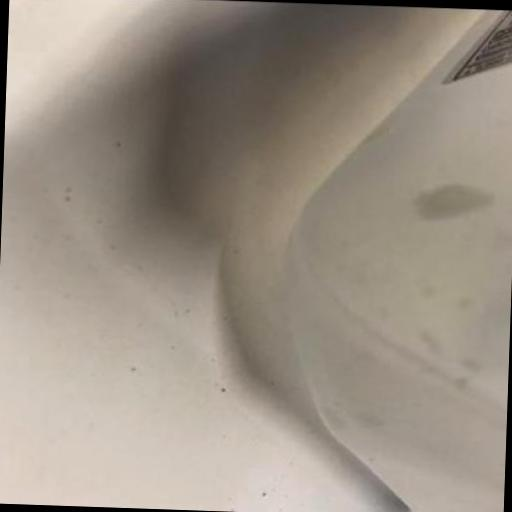plastic: (271, 2, 512, 512)
